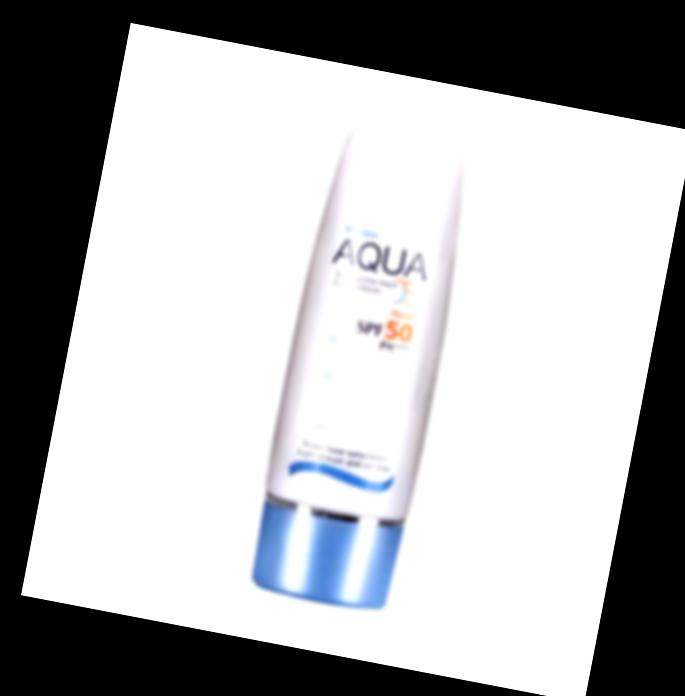cosmetic: (245, 115, 482, 615)
